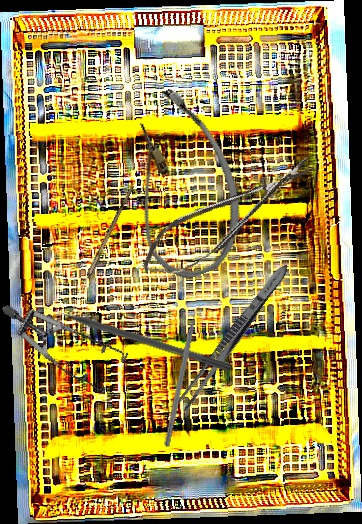Cannula: (100, 78, 261, 289)
Chopper: (163, 299, 209, 449)
Dressing Forceps: (174, 260, 293, 414)
Micro Scissor: (130, 147, 327, 288)
Pusher: (40, 300, 233, 373)
Speculum: (1, 267, 140, 417)
Surgical Spoon: (71, 184, 134, 310)
